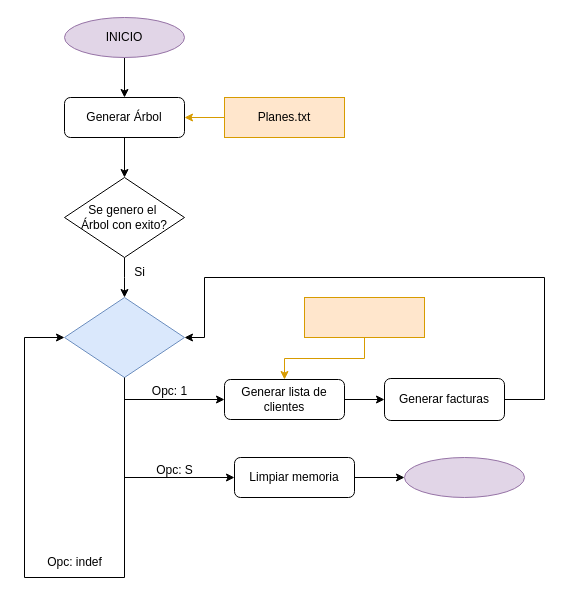
The diagram is 570 pixels wide and 603 high, and some of its shapes have lost their labels. The centre of each missing label's shape, as x and y in pixels:
"Clientes.txt" goes at point (364, 317).
"FIN" goes at point (464, 477).
"Menú" goes at point (124, 337).
